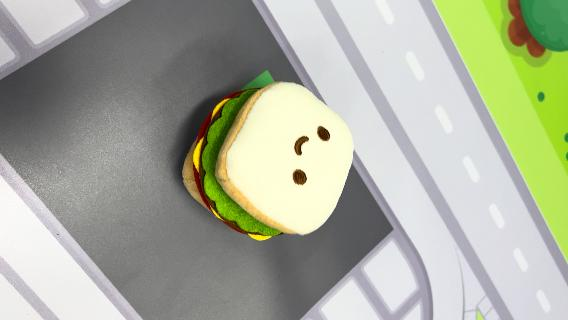sandwich: (180, 78, 356, 242)
